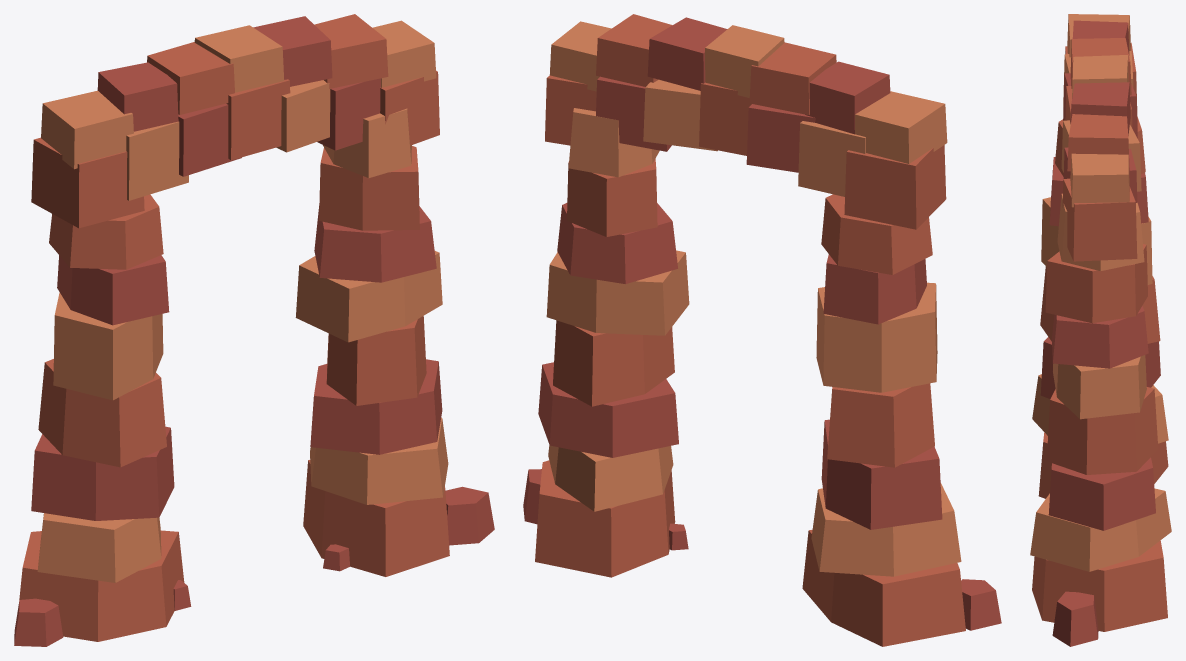
The model's file is rock_arch.glb.
The picture shows the model from 3 angles, left to right: view 1: azimuth 30°, elevation 25°; view 2: azimuth 150°, elevation 25°; view 3: azimuth 270°, elevation 25°; orthographic projection. The views are drawn at different scales.
Parts seen in each view (by area): view 1: band0, band1, band2, blocks; view 2: band0, band1, band2, blocks; view 3: band0, band1, band2, blocks.
Boxes of the visible parts, box(x1,y1,x2,y2) form: band0: box(19, 14, 449, 641); band1: box(37, 20, 448, 582); band2: box(31, 16, 442, 520); blocks: box(14, 486, 494, 646); band0: box(535, 14, 965, 646); band1: box(546, 21, 961, 576); band2: box(538, 17, 942, 529); blocks: box(523, 469, 1001, 630); band0: box(1032, 38, 1168, 631); band1: box(1030, 14, 1171, 571); band2: box(1040, 20, 1160, 530); blocks: box(1052, 591, 1098, 646).
Bounding box in the file's own units: 20.58 × 21.87 × 5.9.
